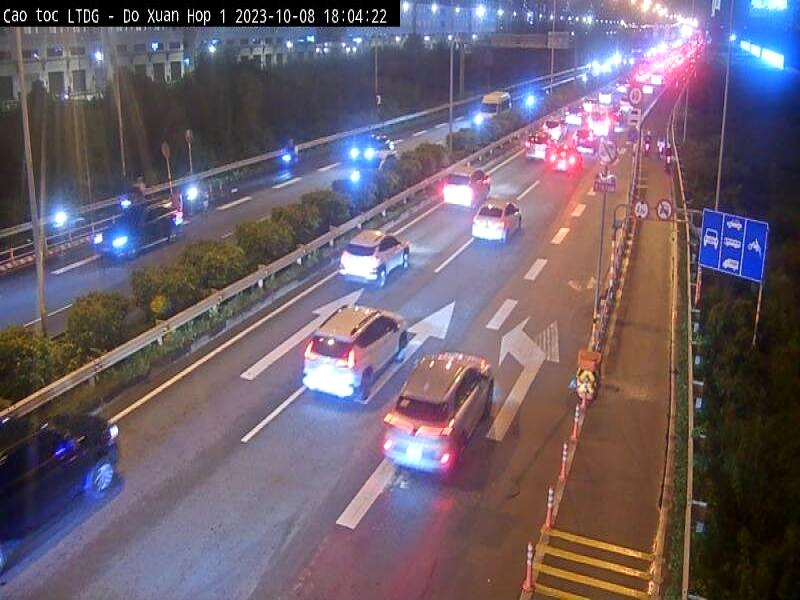bus: (588, 104, 619, 136)
car: (0, 412, 121, 580), (382, 351, 495, 474), (304, 300, 411, 404), (93, 206, 185, 262), (337, 229, 411, 291), (471, 196, 522, 247), (442, 163, 492, 210), (350, 130, 392, 164), (477, 91, 512, 126), (550, 144, 582, 176), (573, 127, 600, 157), (526, 131, 552, 160), (565, 103, 587, 129), (546, 118, 566, 141)
